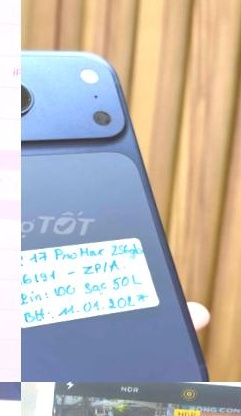scratch: (21, 382, 73, 408)
